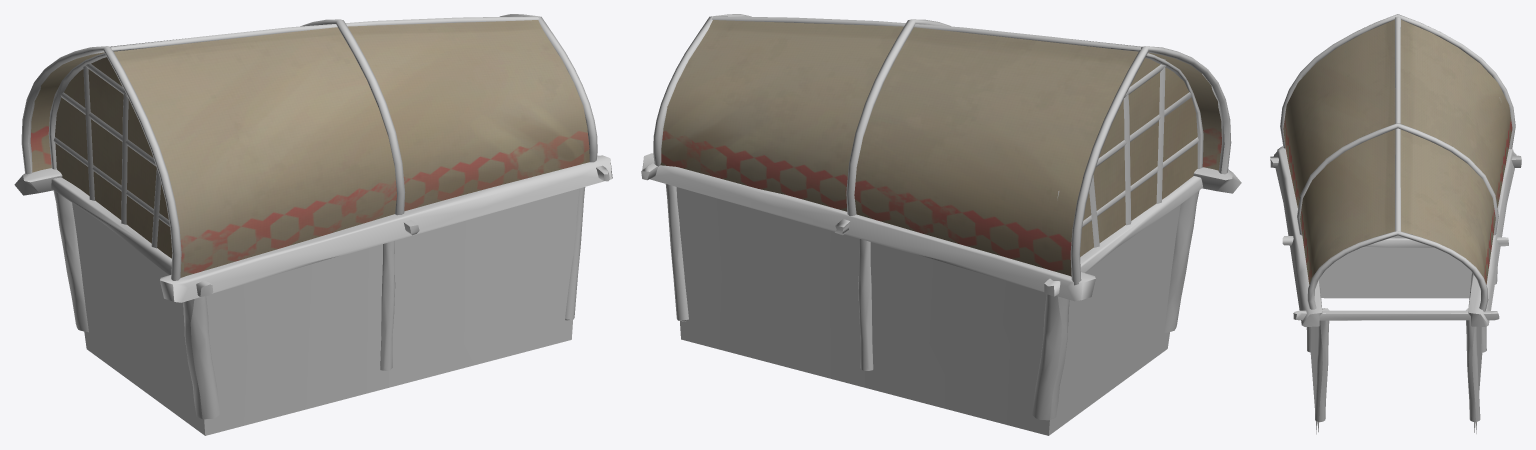
File: SM_EastLands_CarriageTop.fbx
The picture shows the model from 3 angles, left to right: view 1: azimuth 30°, elevation 25°; view 2: azimuth 150°, elevation 25°; view 3: azimuth 270°, elevation 25°; orthographic projection. The views are drawn at different scales.
Parts seen in each view (by area): view 1: SM_EastLands_CarriageTop_LOD0; view 2: SM_EastLands_CarriageTop_LOD0; view 3: SM_EastLands_CarriageTop_LOD0.
Boxes of the visible parts, <box> form: SM_EastLands_CarriageTop_LOD0: <box>14,14,612,435</box>; SM_EastLands_CarriageTop_LOD0: <box>641,14,1241,435</box>; SM_EastLands_CarriageTop_LOD0: <box>1270,14,1521,434</box>.
Size of the model in its own units: 163 by 119 by 101.
